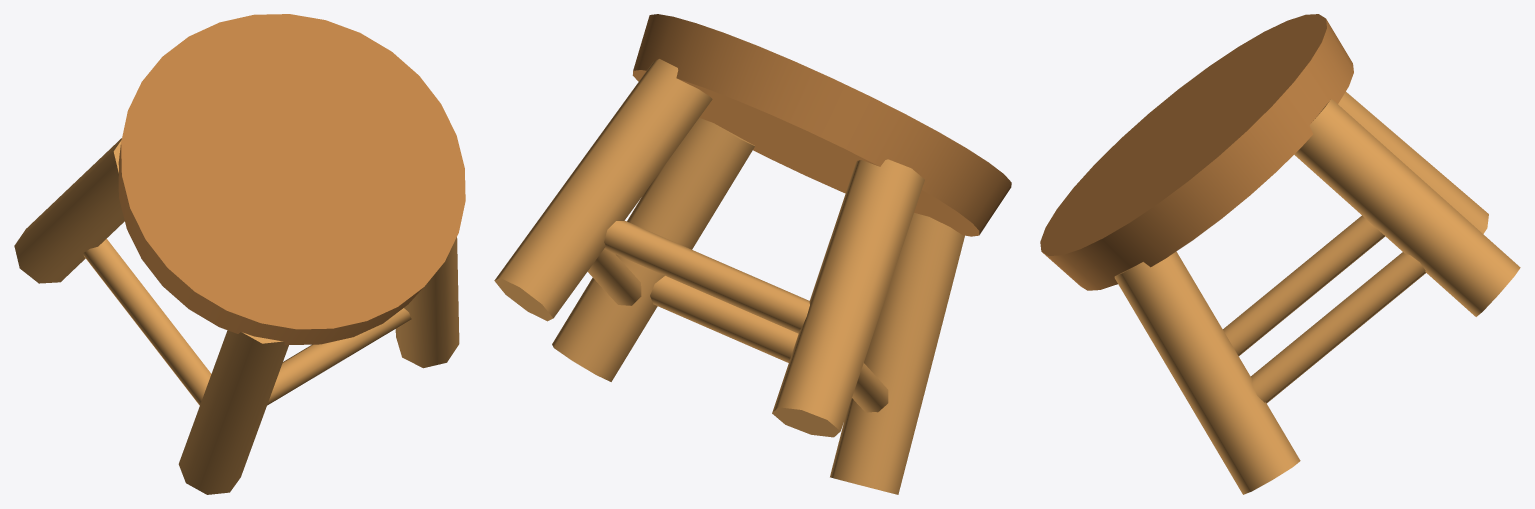
File: stool.glb
3 renders of one model, left to right at view 1: azimuth 30°, elevation 25°; view 2: azimuth 150°, elevation 25°; view 3: azimuth 270°, elevation 25°, orthographic. The views are drawn at different scales.
Size of the model in its own units: 0.8027 by 0.9114 by 0.9057.
